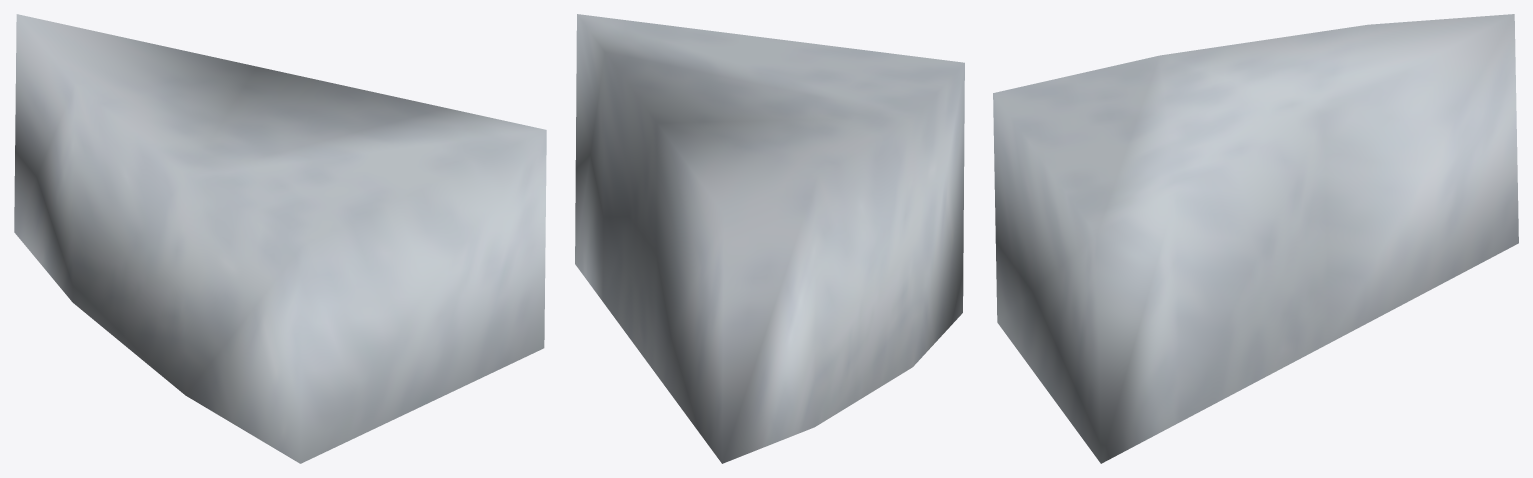
Rendered from Rock_17_Snow.fbx.
3 renders of one model, left to right at view 1: azimuth 30°, elevation 25°; view 2: azimuth 150°, elevation 25°; view 3: azimuth 270°, elevation 25°, orthographic. The views are drawn at different scales.
Visible parts, largest first — view 1: Rock_17_Snow; view 2: Rock_17_Snow; view 3: Rock_17_Snow.
Part boxes in pixels (x1,y1,x2,y2): Rock_17_Snow: [14, 14, 546, 463]; Rock_17_Snow: [575, 14, 964, 463]; Rock_17_Snow: [993, 14, 1518, 463].
Bounding box in the file's own units: 44.02 × 34.11 × 56.06.
